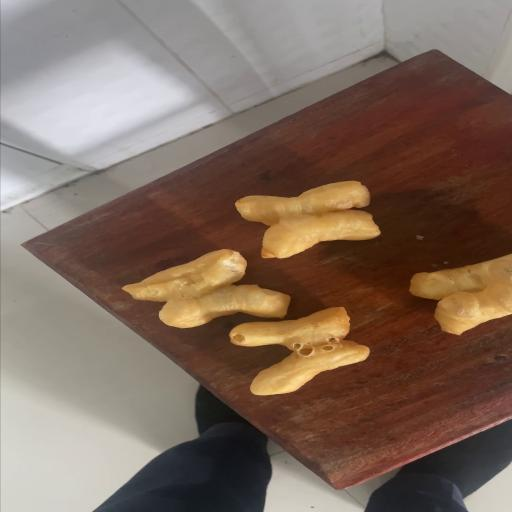street_golden_defect: (122, 249, 290, 328), (229, 307, 368, 395)
street_golden_good: (235, 181, 380, 258), (410, 254, 512, 334)
